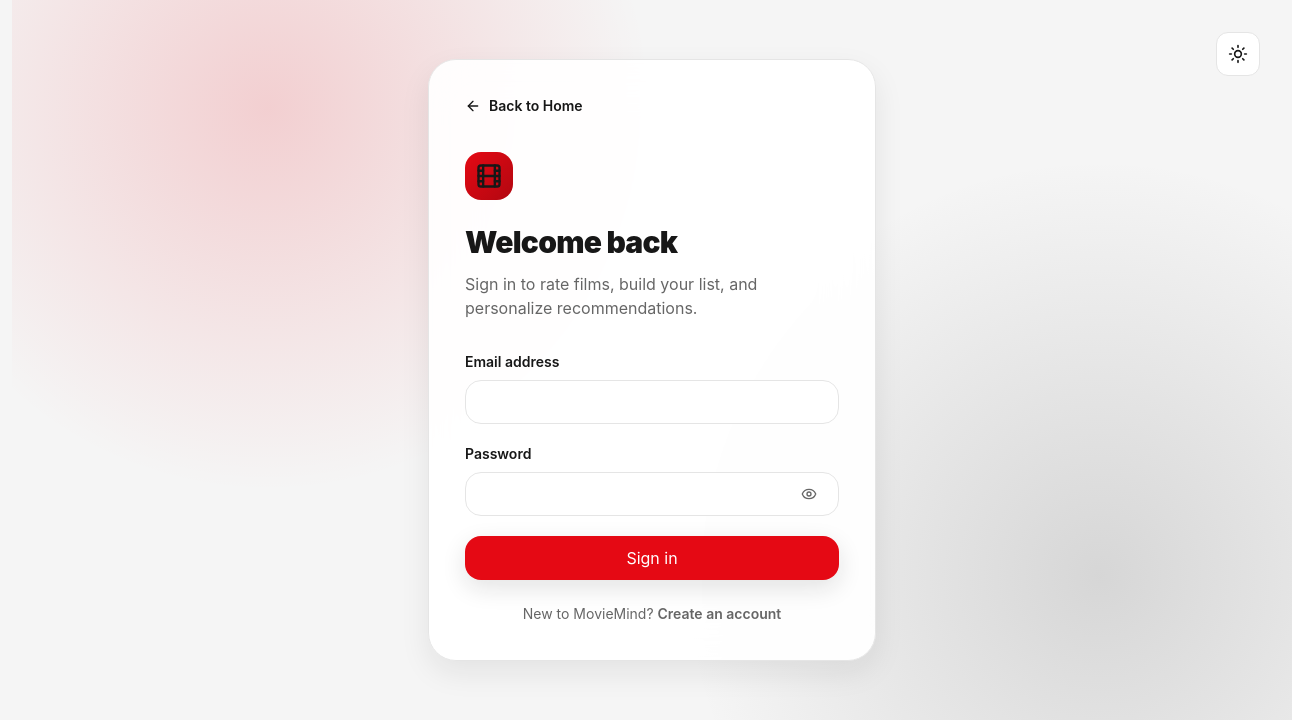
AuthPage › submits trimmed credentials and returns to the requested route
Type "  viewer@example.com  " into the field labelled "Email address" at x=652, y=402, box [465,380,839,424]
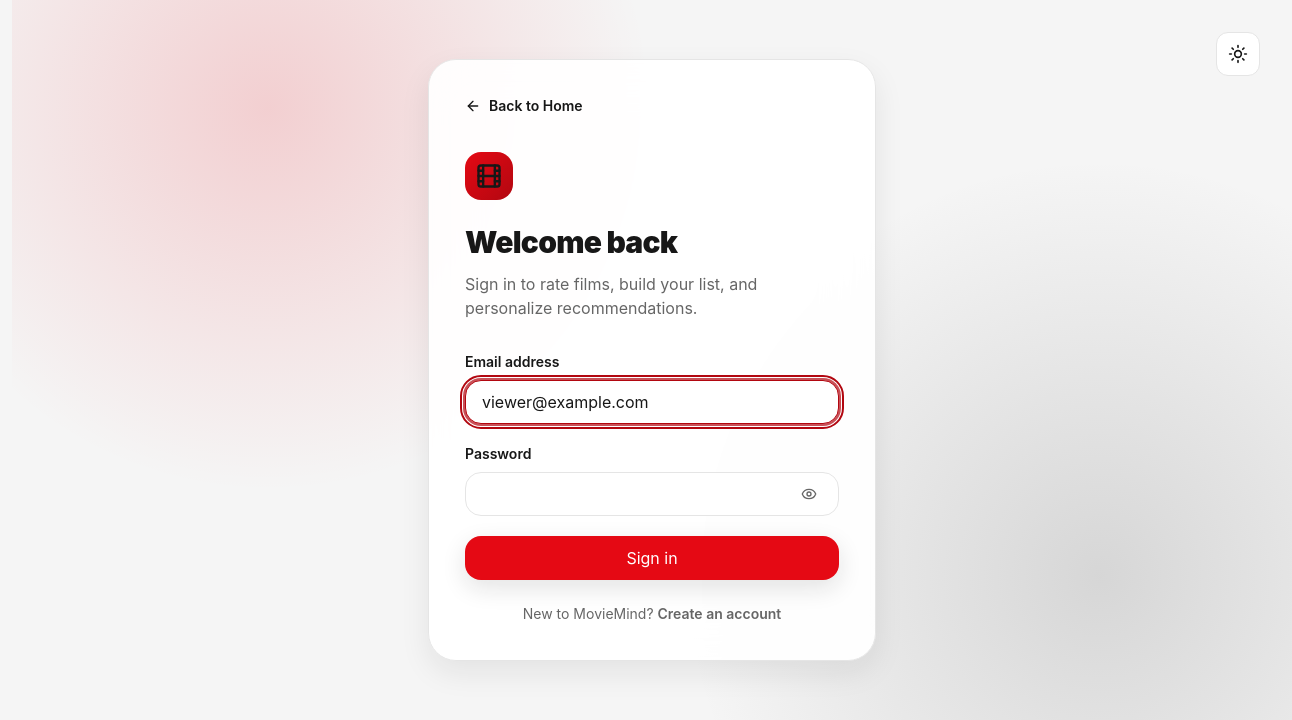
Type "correct-horse" into the password field labelled "Password" at x=652, y=494, box [465,472,839,516]
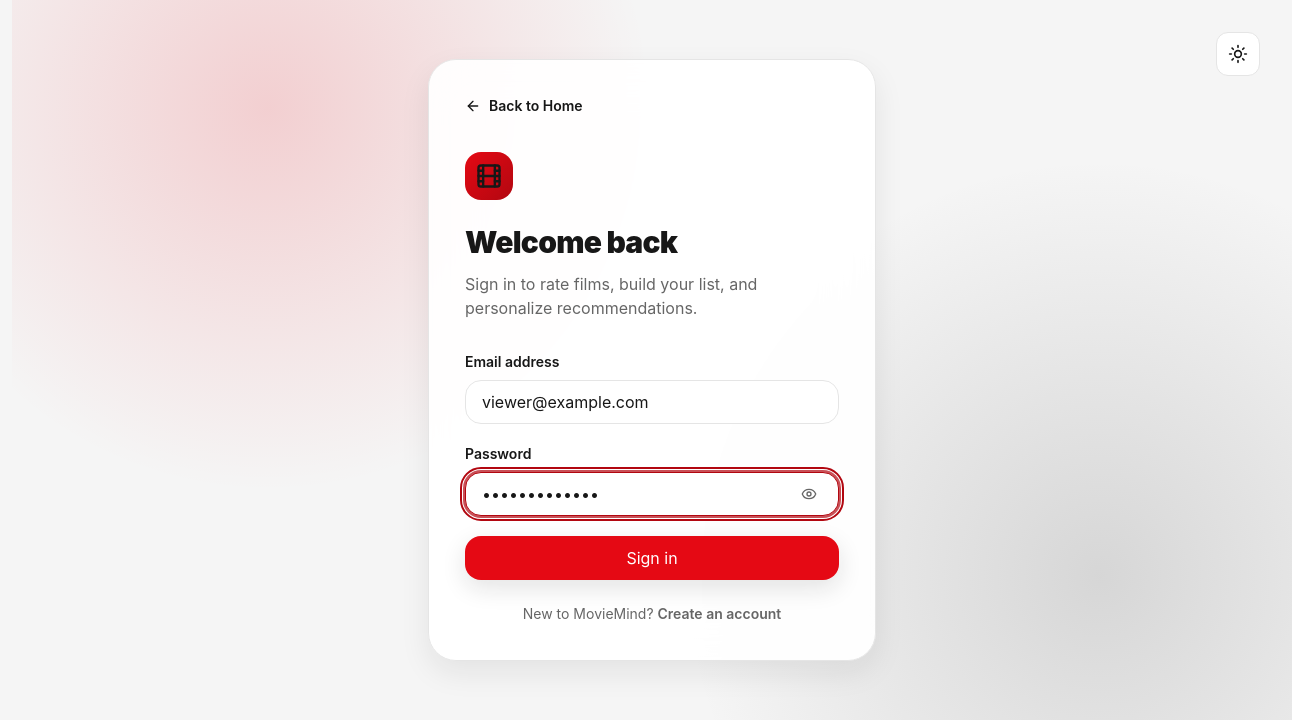
Click the button "Sign in" at x=652, y=558, box [465,536,839,580]
(page scrolled)
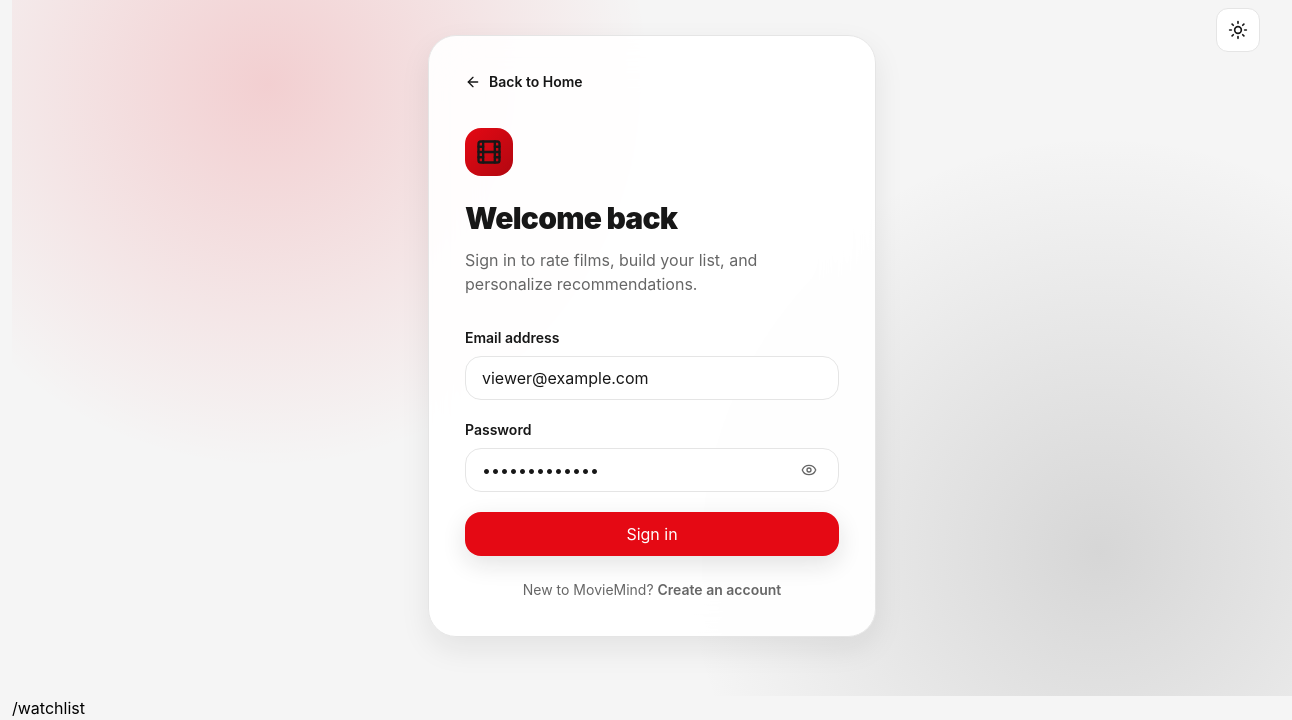
Expected: the text with test id "location" reads "/watchlist", [12,698,85,718]
